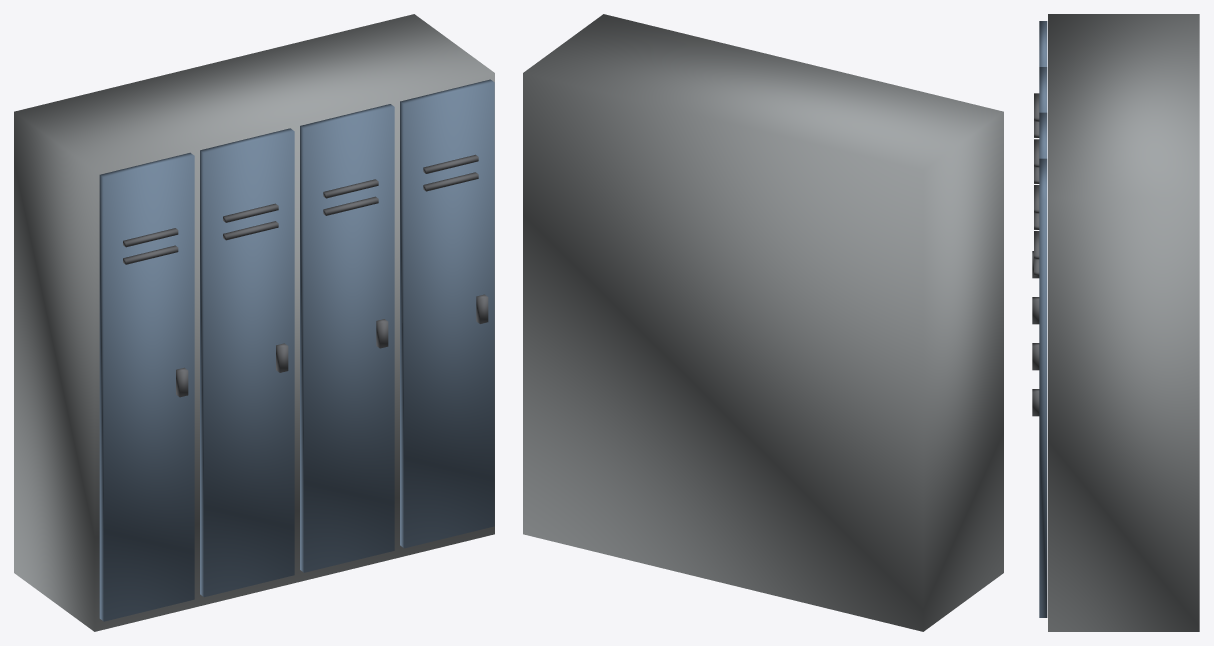
Rendered from equipment_locker__deep.glb.
3 renders of one model, left to right at view 1: azimuth 30°, elevation 25°; view 2: azimuth 150°, elevation 25°; view 3: azimuth 270°, elevation 25°, orthographic. The views are drawn at different scales.
Visible parts, largest first — view 1: world; view 2: world; view 3: world.
Boxes of the visible parts, box(x1,y1,x2,y2) form: world: box(14, 14, 494, 631); world: box(523, 14, 1003, 631); world: box(1032, 14, 1199, 631).
Size of the model in its own units: 1.68 by 1.85 by 0.6466.
